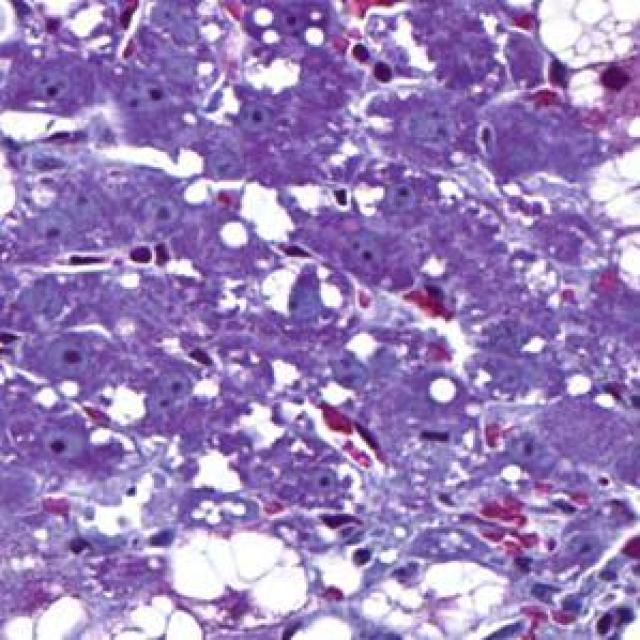ballooning: (165, 520, 312, 634), (356, 554, 510, 636), (533, 0, 638, 77)
